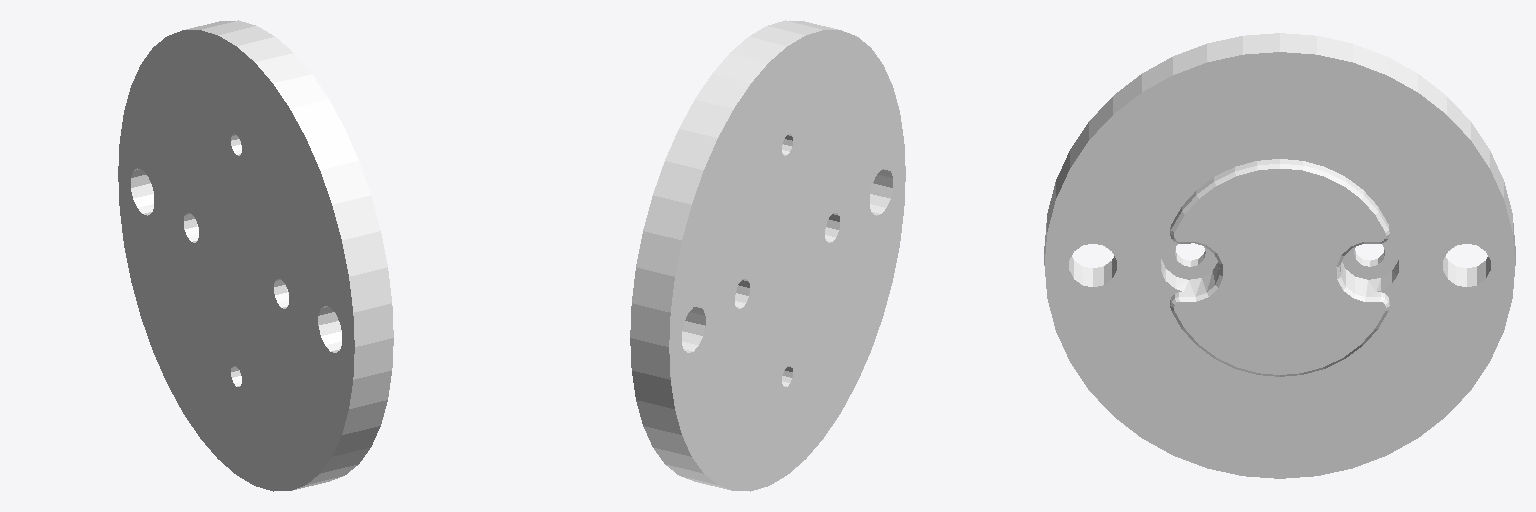
robot.urdf — 3D图:
<?xml version="1.0" encoding="utf-8"?>
<!-- This URDF was automatically created by SolidWorks to URDF Exporter! Originally created by [author] ([email redacted]) 
     Commit Version: 1.6.0-4-g7f85cfe  Build Version: 1.6.7995.38578
     For more information, please see http://wiki.ros.org/sw_urdf_exporter -->
<robot
  name="3D图">
  <link
    name="base_link">
    <inertial>
      <origin
        xyz="0.120914953626937 -0.0529068298339915 -2.64457536252351E-14"
        rpy="0 0 0" />
      <mass
        value="0.0191289524854766" />
      <inertia
        ixx="9.10207700334076E-06"
        ixy="-6.08850251378215E-19"
        ixz="1.89148843043899E-18"
        iyy="4.4572066722946E-06"
        iyz="3.06328702190921E-18"
        izz="4.79245487872851E-06" />
    </inertial>
    <visual>
      <origin
        xyz="0 0 0"
        rpy="0 0 0" />
      <geometry>
        <mesh
          filename="package://fr5_description/meshes/base_link.STL" />
      </geometry>
      <material
        name="">
        <color
          rgba="1 1 1 1" />
      </material>
    </visual>
    <collision>
      <origin
        xyz="0 0 0"
        rpy="0 0 0" />
      <geometry>
        <mesh
          filename="package://fr5_description/meshes/base_link.STL" />
      </geometry>
    </collision>
  </link>
</robot>

--- What the picture shows (computed from the rendered views, not written in the file) ---
3 views of the same robot in one strip: view 1: azimuth 30°, elevation 25°; view 2: azimuth 150°, elevation 25°; view 3: azimuth 270°, elevation 25° (orthographic).
Model 3D图 with 1 links and 0 joints (none), rooted at base_link, posed all joints at 0.
Visible links, largest first — view 1: base_link; view 2: base_link; view 3: base_link.
Boxes of the visible links, box(x1,y1,x2,y2) form: base_link: box(118, 20, 393, 491); base_link: box(630, 20, 905, 491); base_link: box(1044, 33, 1515, 478).
Bounding box of the posed robot: 0.008 × 0.063 × 0.063 m (x, y, z).
1 mesh visuals loaded from 1 distinct referenced files (1 binary STL).